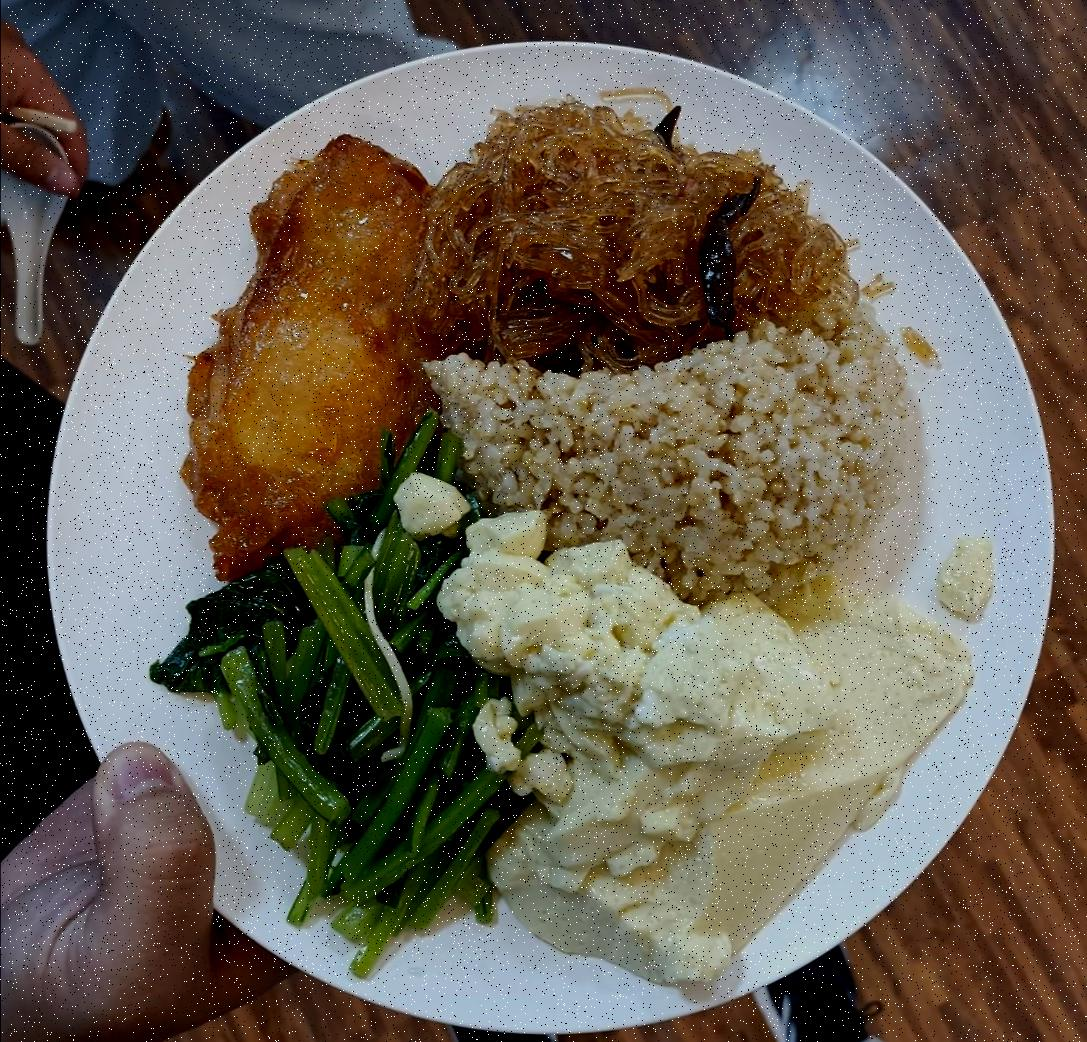brown rice: (413, 328, 930, 604)
grilled chicken leg steak: (172, 133, 436, 574)
plate: (27, 28, 1054, 1020)
side dish: (442, 513, 992, 988), (149, 443, 515, 966), (433, 98, 859, 357)
